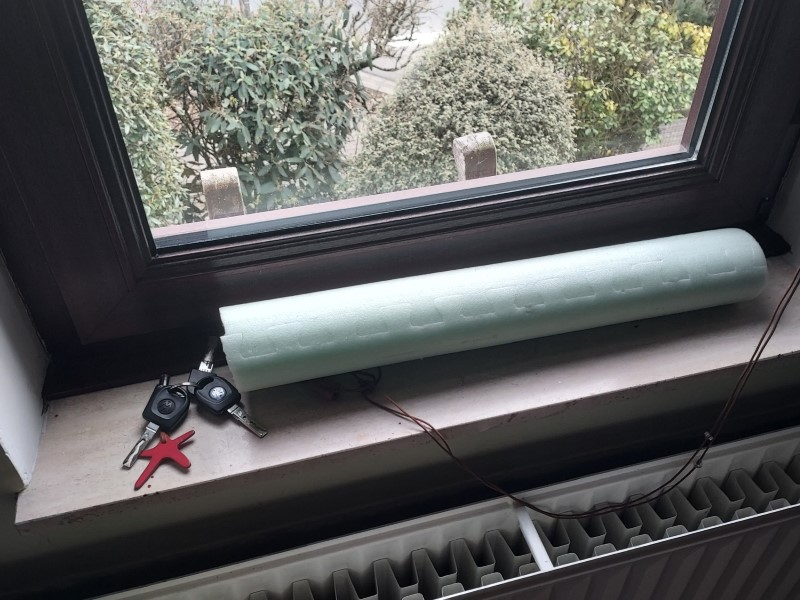key: (120, 381, 190, 467), (194, 373, 270, 440), (189, 333, 222, 393)
